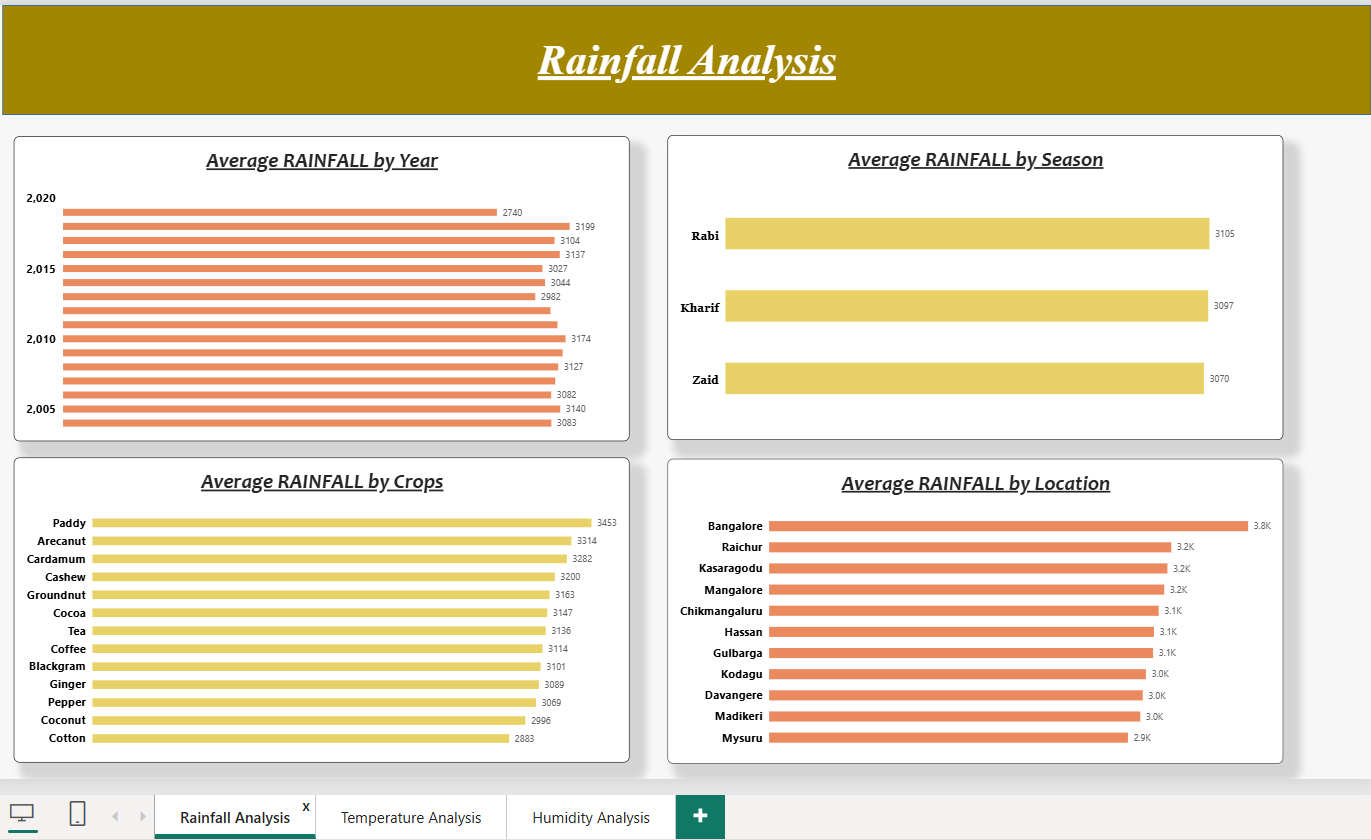

What the dashboard file says about the page in this screenshot:
{"tool":"powerbi","page":{"name":"Rainfall Analysis","canvas":[1920,1080],"ordinal":0},"visuals":[{"type":"shape","box":[10.5,0,1909.9,153.5],"z":0},{"type":"barChart","title":"Average RAINFALL by Year","fields":{"Category":["AGRICULTURE.YEAR"],"Y":["Avg(AGRICULTURE.RAINFALL)"]},"box":[25.4,183.1,859.3,425.4],"z":1},{"type":"barChart","title":"Average RAINFALL by Season","fields":{"Category":["AGRICULTURE.SEASON"],"Y":["Avg(AGRICULTURE.RAINFALL)"]},"box":[939,181.4,859.3,425.4],"z":2},{"type":"barChart","title":"Average RAINFALL by Crops","fields":{"Category":["AGRICULTURE.CROPS"],"Y":["Avg(AGRICULTURE.RAINFALL)"]},"box":[25.4,632.2,859.3,425.4],"z":3},{"type":"barChart","title":"Average RAINFALL by Location","fields":{"Category":["AGRICULTURE.LOCATION"],"Y":["Avg(AGRICULTURE.RAINFALL)"]},"box":[939,633.9,859.3,425.4],"z":4}]}

Visuals, with their boxes on the page's 1920x1080 design canvas (x1, y1, x2, y2). These are canvas units, not pixel positions in the 1371x840 screenshot, which may show the page scaled, cropped or inside an application window:
shape: <bbox>10, 0, 1920, 154</bbox>
"Average RAINFALL by Year" barChart: <bbox>25, 183, 885, 608</bbox>
"Average RAINFALL by Season" barChart: <bbox>939, 181, 1798, 607</bbox>
"Average RAINFALL by Crops" barChart: <bbox>25, 632, 885, 1058</bbox>
"Average RAINFALL by Location" barChart: <bbox>939, 634, 1798, 1059</bbox>
